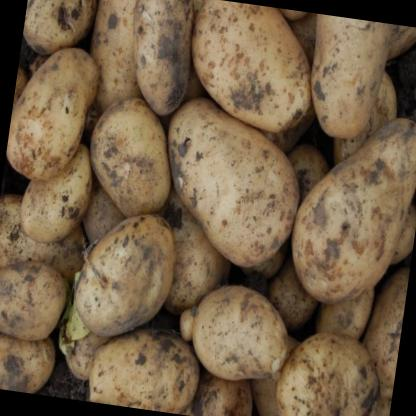potato: (150, 90, 313, 276), (281, 102, 416, 318), (179, 0, 325, 140), (67, 203, 182, 347), (72, 0, 167, 164), (2, 36, 104, 188), (80, 91, 184, 229), (298, 13, 394, 146), (186, 276, 298, 390), (84, 316, 207, 416), (269, 321, 388, 416), (14, 134, 99, 251), (117, 0, 199, 119), (0, 251, 72, 346), (175, 346, 261, 416), (19, 0, 101, 63), (0, 320, 59, 396)
